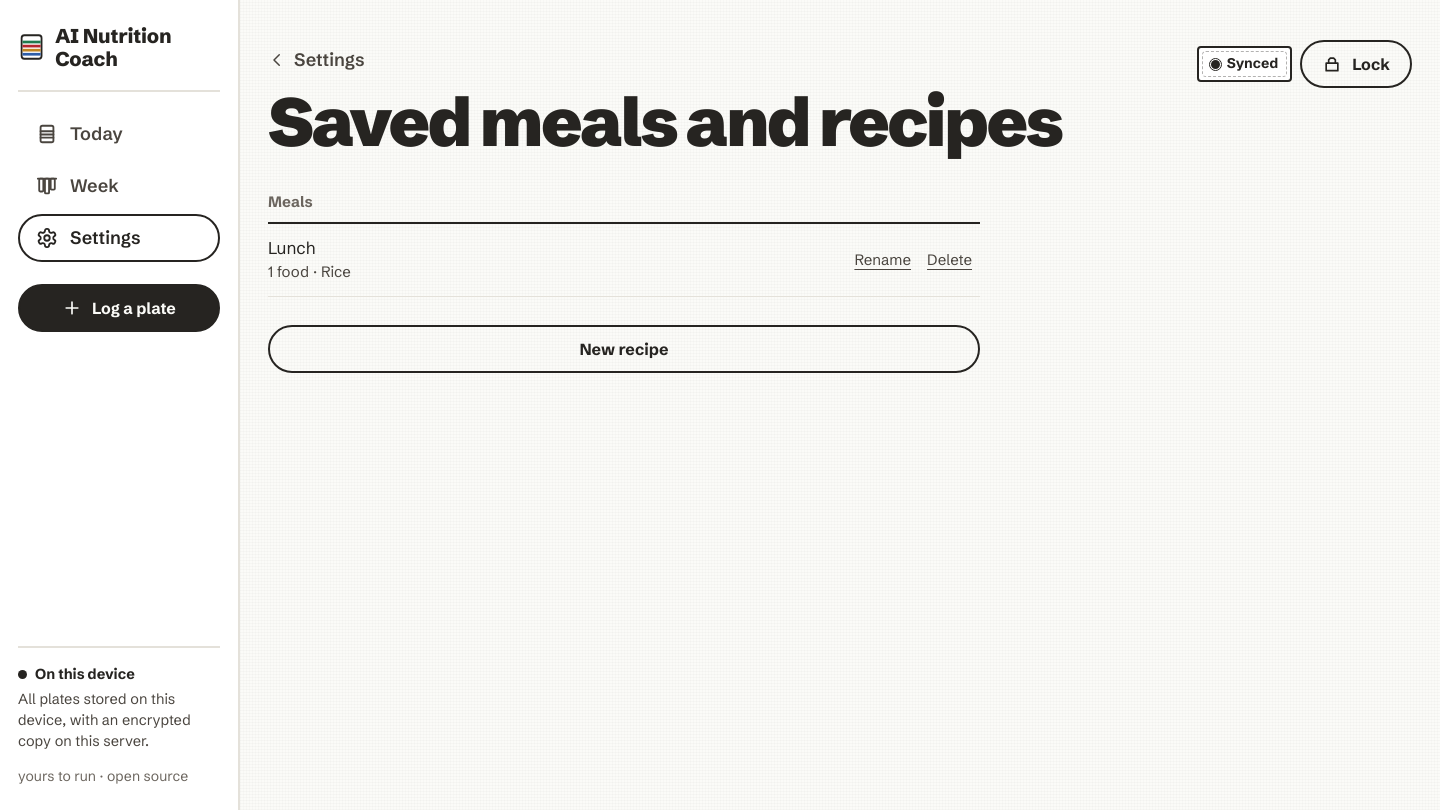
Scenario: saved meals › a meal renamed on another device shows here, and a name being typed is kept
This screenshot has width=1440, height=810.
Expected: the text "Lunch" is shown, [268, 237, 315, 258]
Click the button with aria-label "Rename Lunch". click: (883, 260)
box: [846, 236, 919, 284]
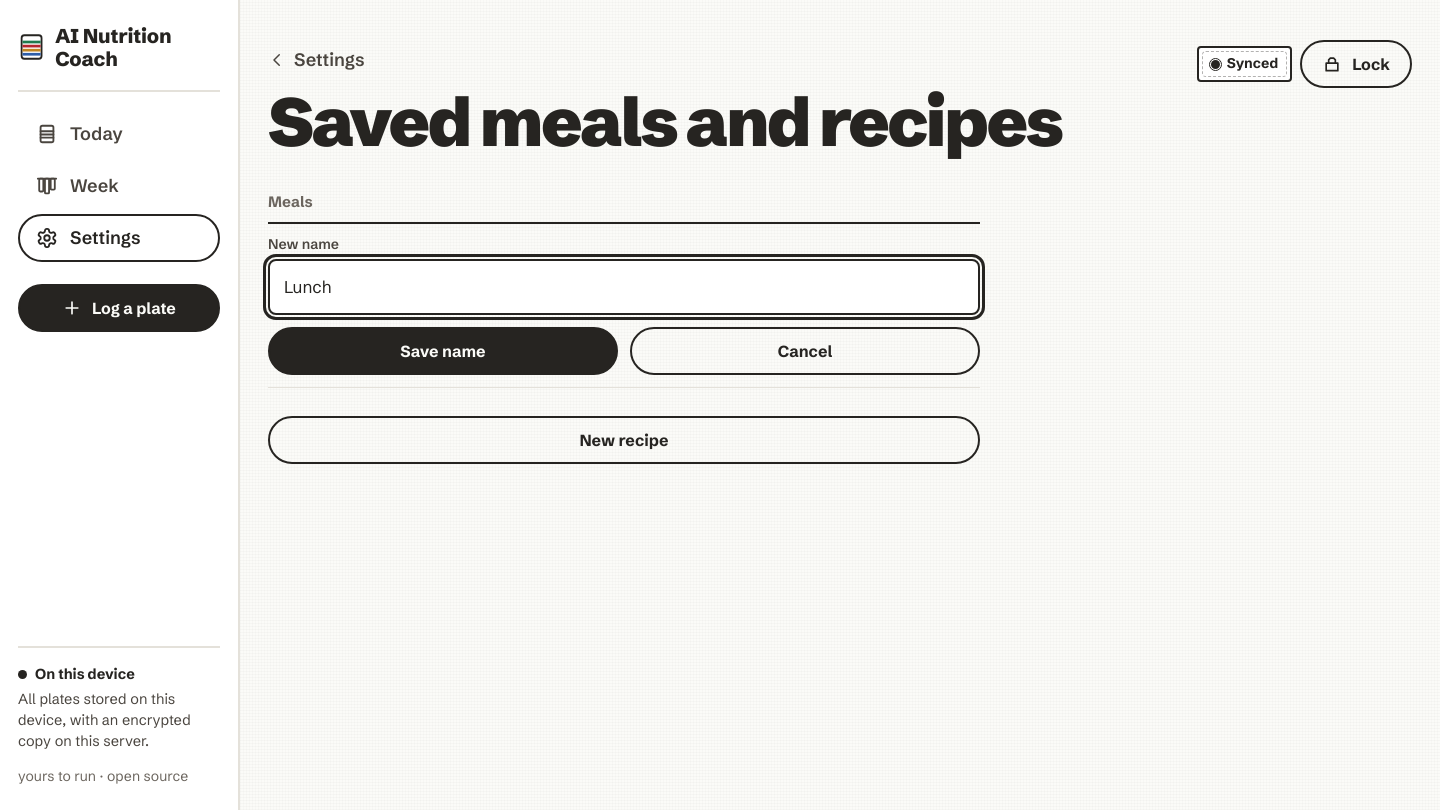
Replace the text in the field labelled "New name" with "Dinn". click: (624, 287)
box: [270, 261, 978, 313]
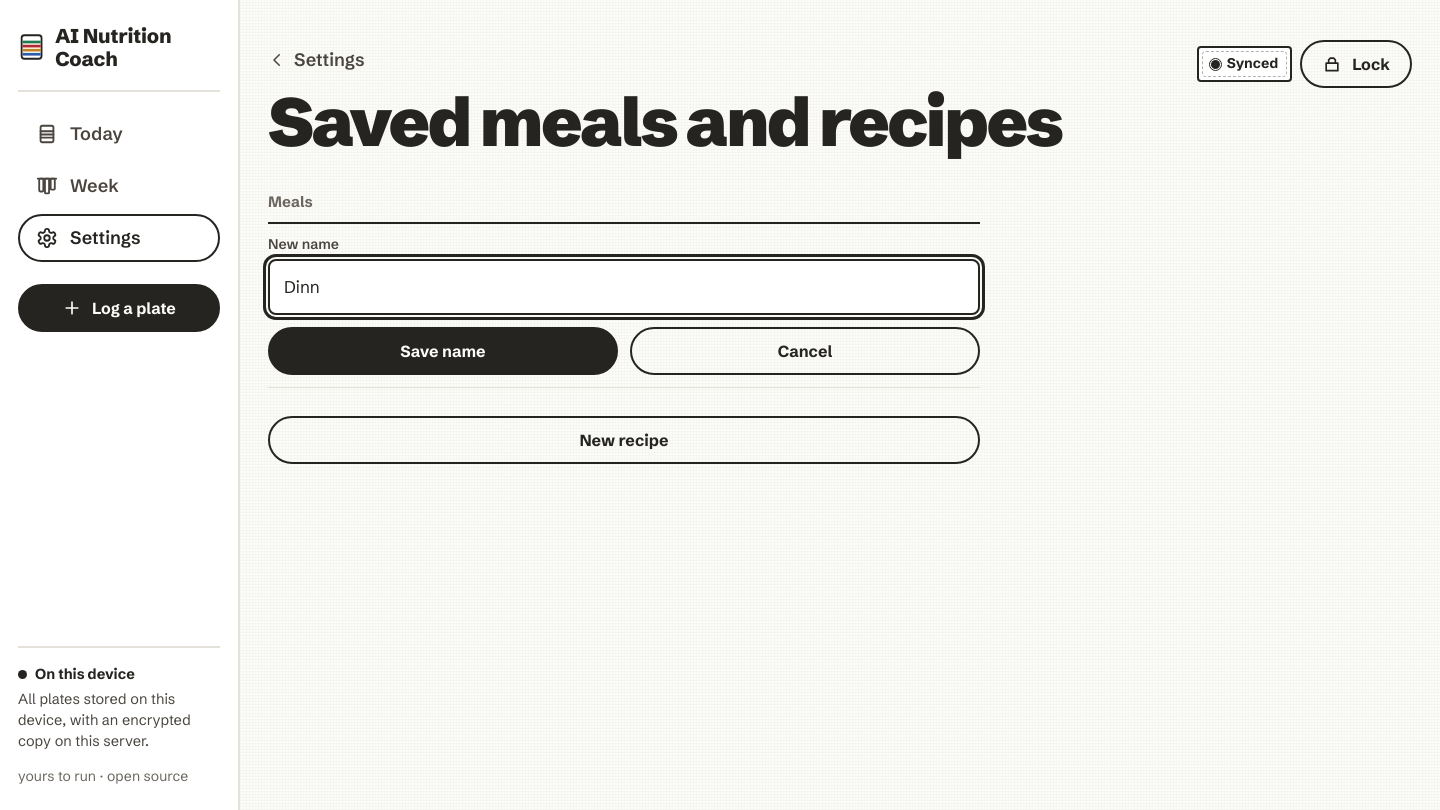
Click the button "Cancel". click: (805, 351)
box: [630, 327, 980, 375]
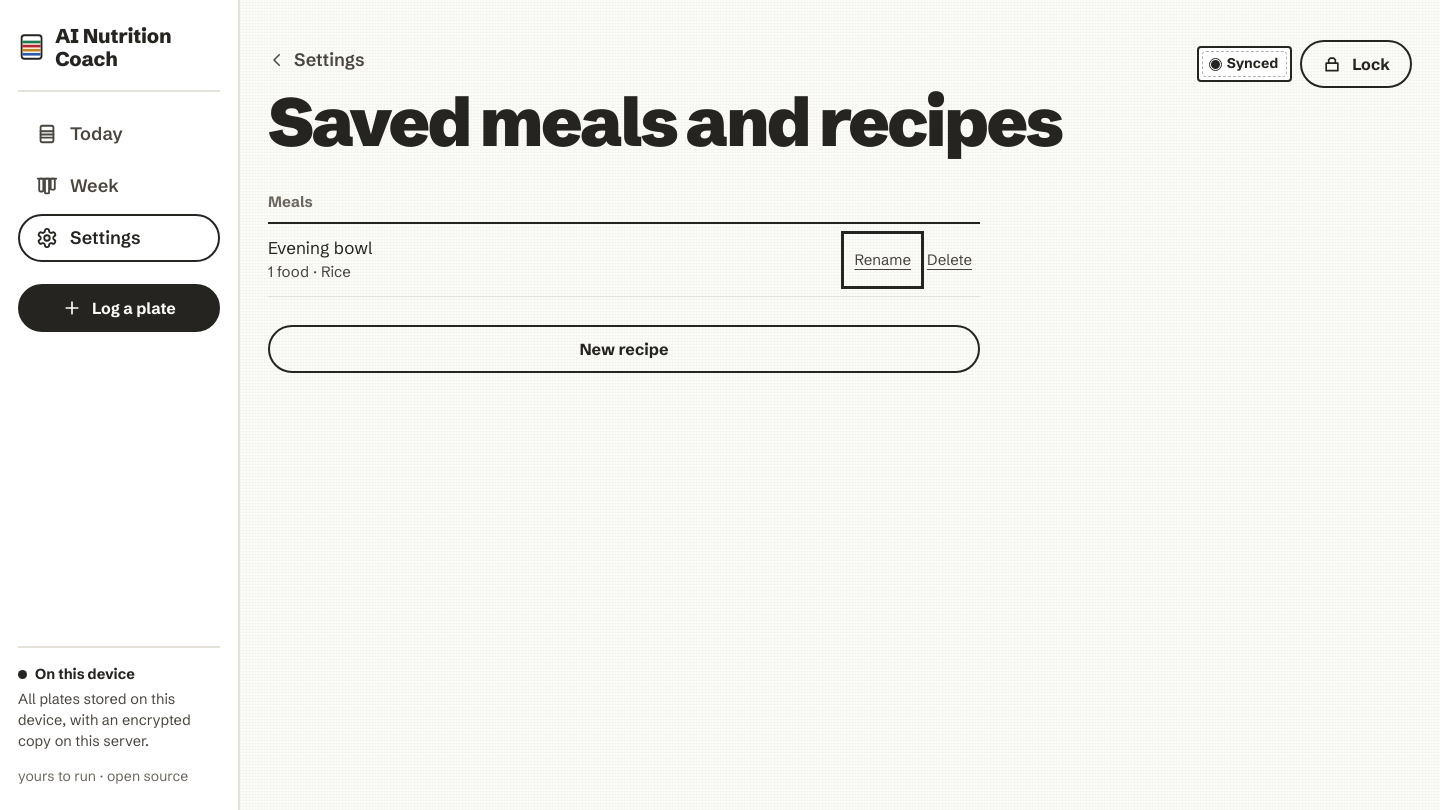
Expected: the text "Lunch" is not shown
Now the text "Evening bowl" is shown, box [268, 237, 372, 258]
